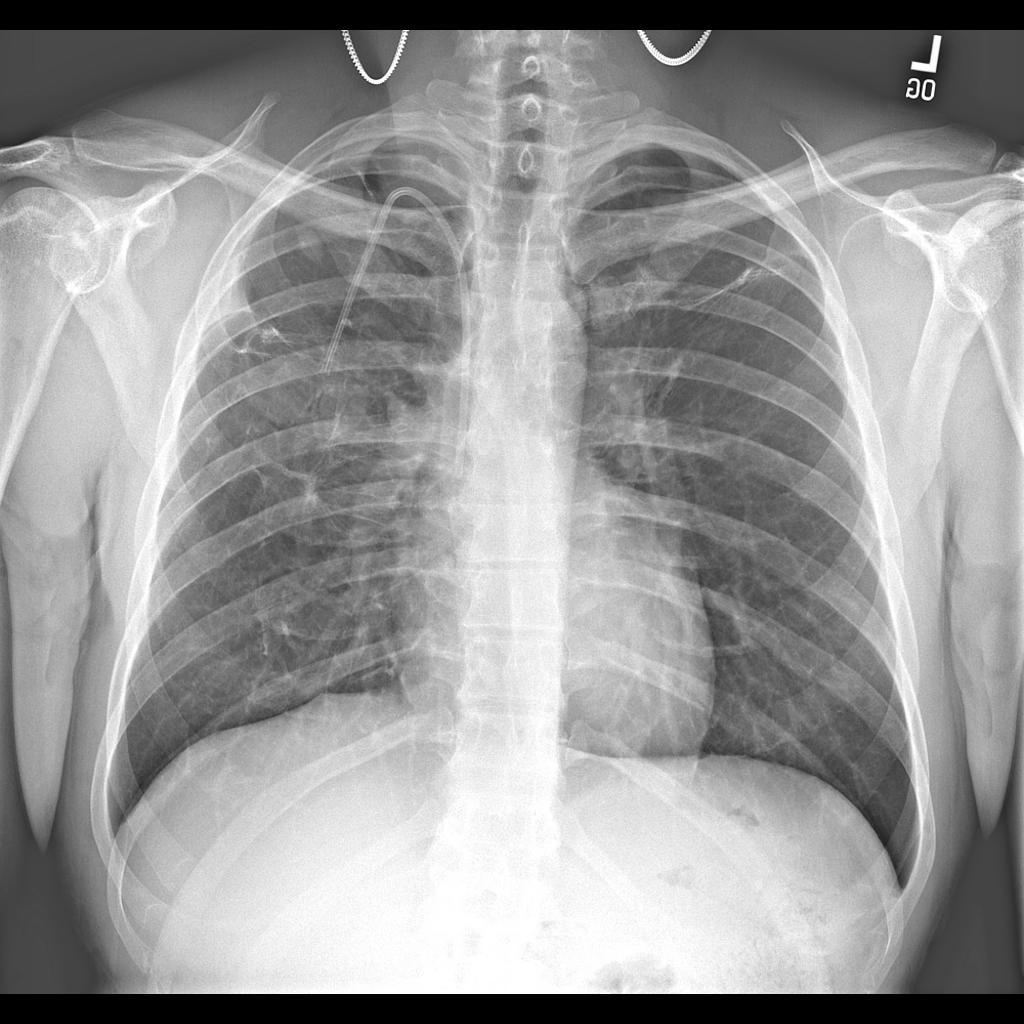Nodule: (285, 215, 336, 272)
